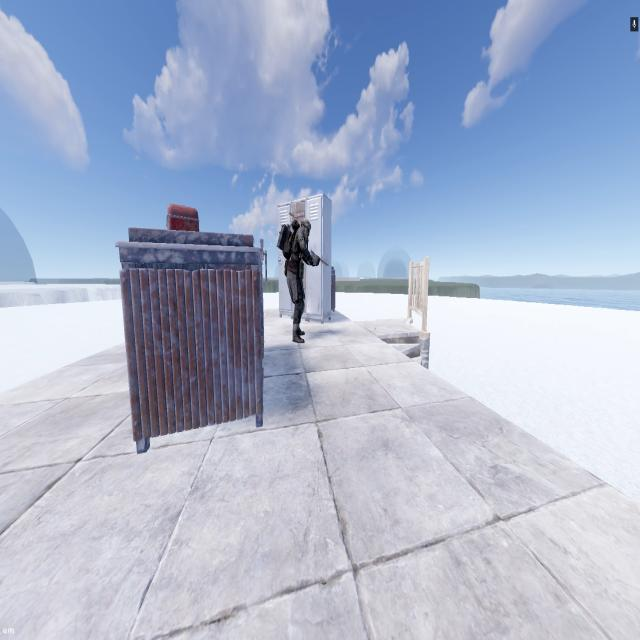Player: (284, 216, 312, 346)
